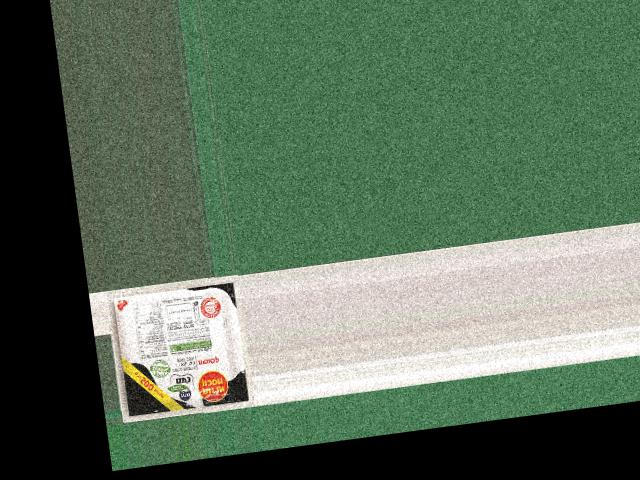cheese: (107, 285, 250, 414)
